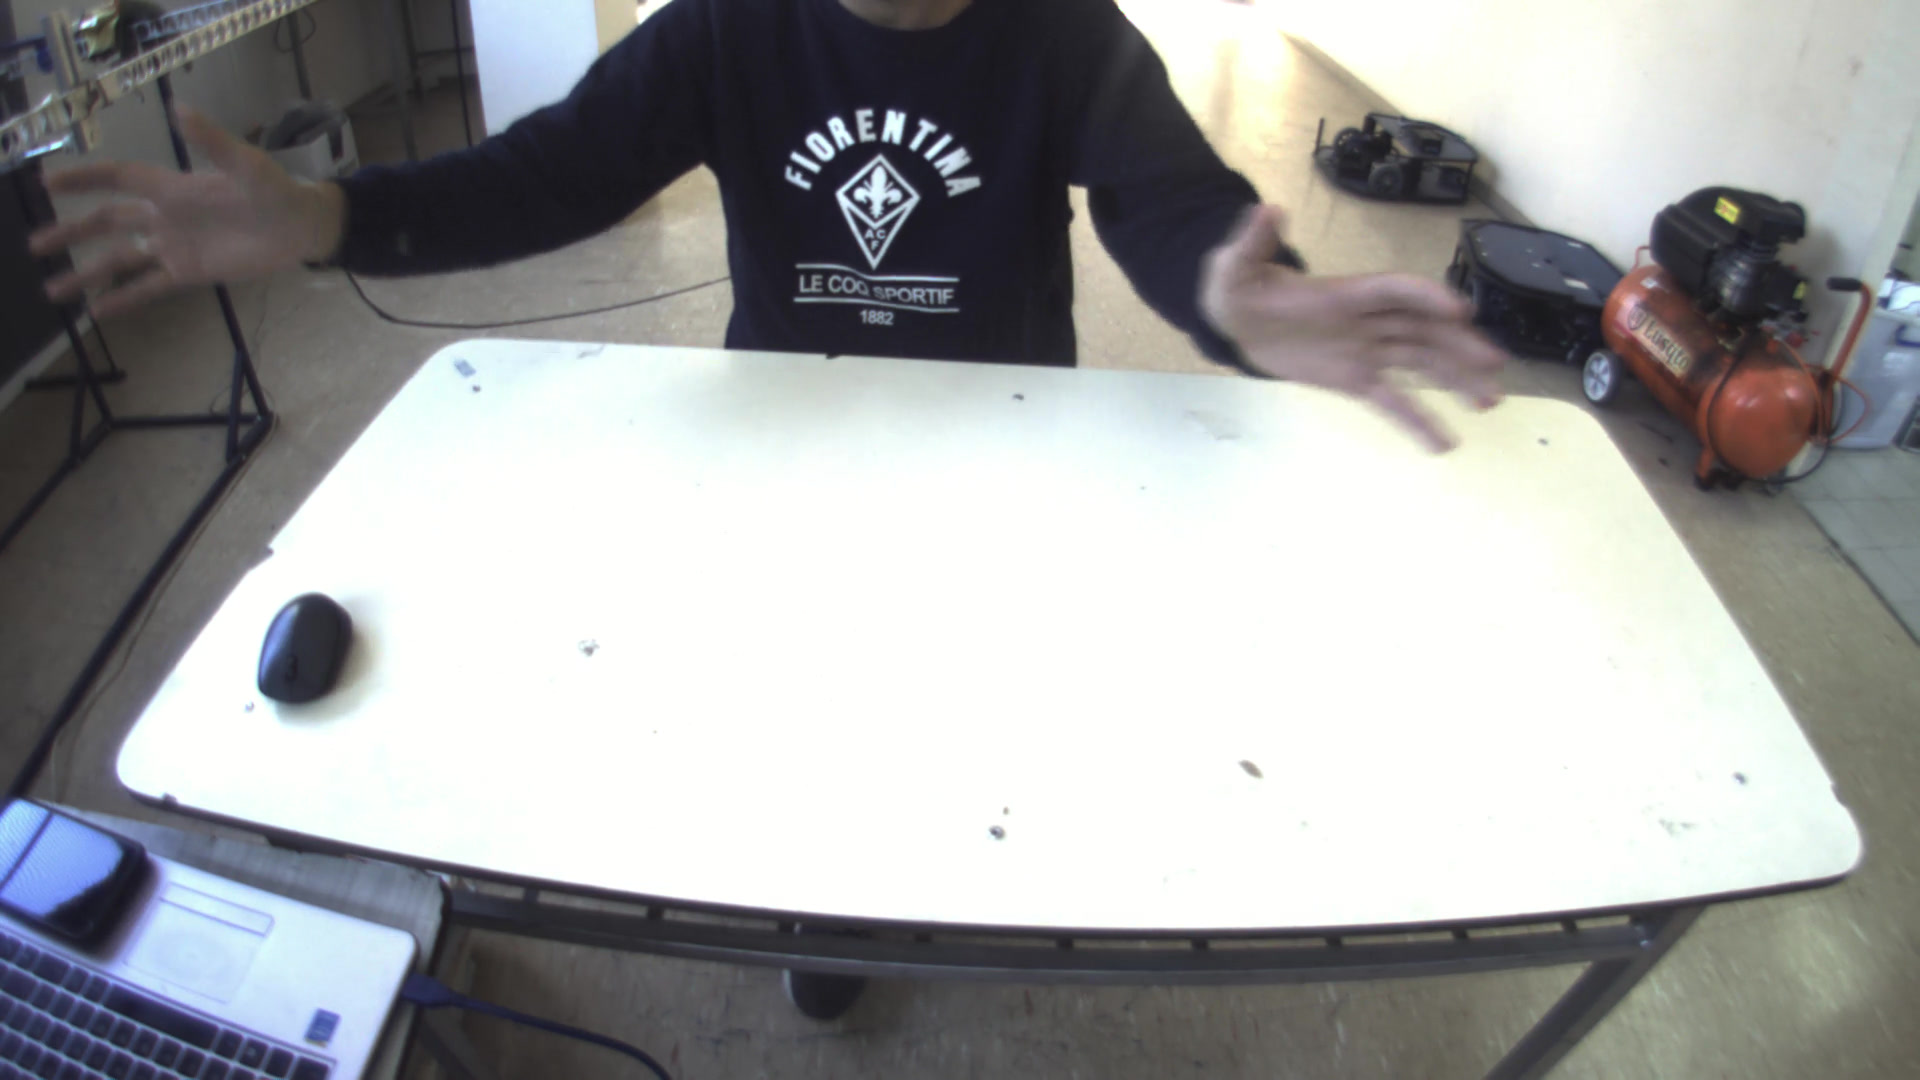hand: (16, 88, 342, 322), (1207, 196, 1515, 442)
